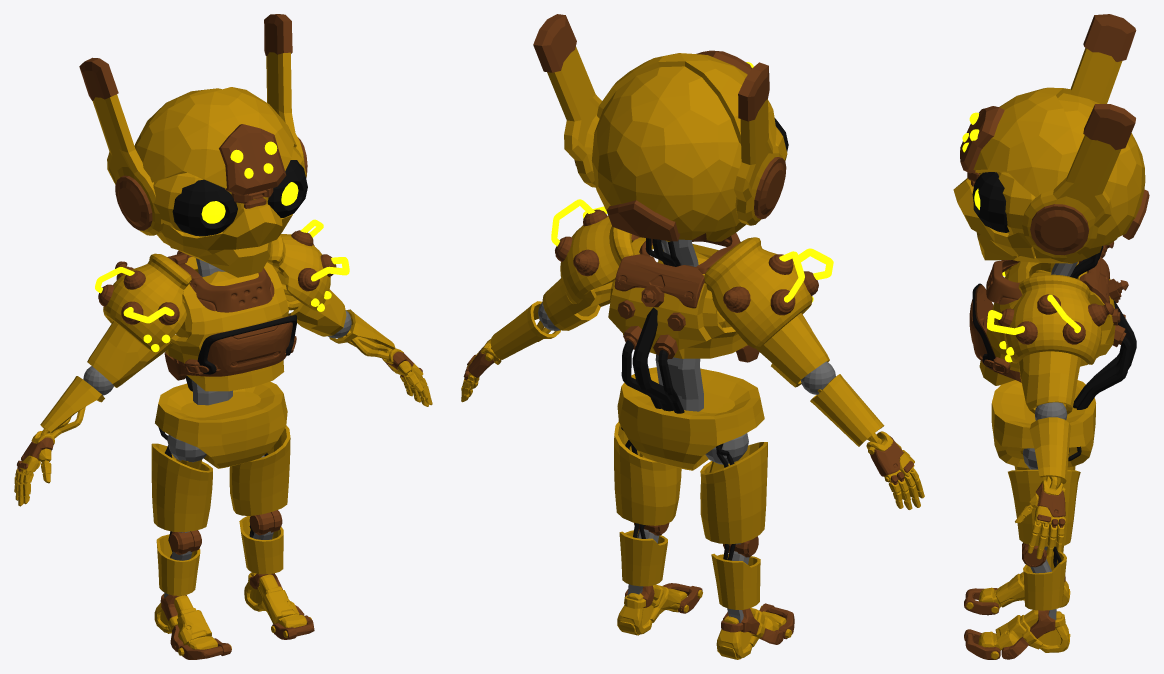
File: enemigoblend 1.fbx
3 renders of one model, left to right at view 1: azimuth 30°, elevation 25°; view 2: azimuth 150°, elevation 25°; view 3: azimuth 270°, elevation 25°, orthographic. The views are drawn at different scales.
Parts seen in each view (by area): view 1: Cube.002, Cube.001, SK_Foot_Hi.001, SK_Hand_Hi.001; view 2: Cube.002, Cube.001, SK_Foot_Hi.001, SK_Hand_Hi.001; view 3: Cube.001, Cube.002, SK_Foot_Hi.001, SK_Hand_Hi.001.
Part boxes in pixels (x1,y1,x2,y2): Cube.002: (40, 219, 395, 597); Cube.001: (79, 14, 307, 277); SK_Foot_Hi.001: (154, 572, 314, 659); SK_Hand_Hi.001: (14, 348, 432, 506); Cube.002: (490, 199, 884, 622); Cube.001: (533, 14, 788, 266); SK_Foot_Hi.001: (617, 583, 794, 659); SK_Hand_Hi.001: (461, 339, 924, 509); Cube.001: (953, 14, 1149, 278); Cube.002: (969, 241, 1136, 620); SK_Foot_Hi.001: (964, 572, 1070, 659); SK_Hand_Hi.001: (1015, 480, 1065, 559).
Size of the model in its own units: 416 by 546 by 171.
